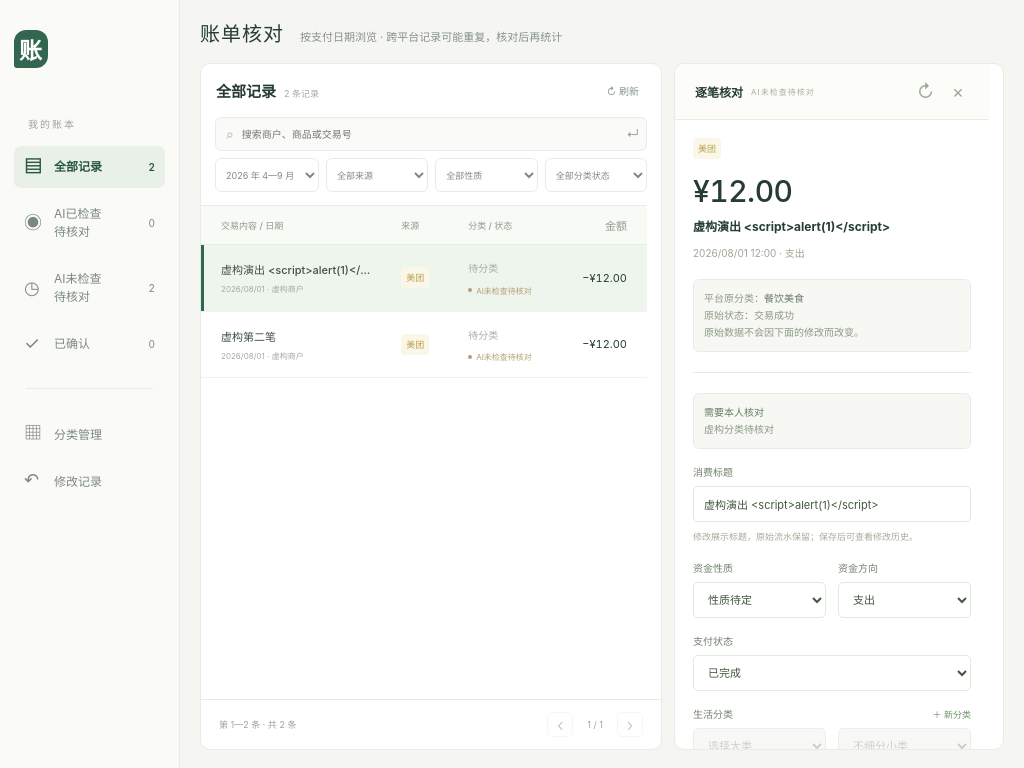
Test: confirms once and opens the next record without an unsaved warning
Select "消费" in the dropdown labelled "资金性质". click: (760, 600)
box: [693,582,826,618]
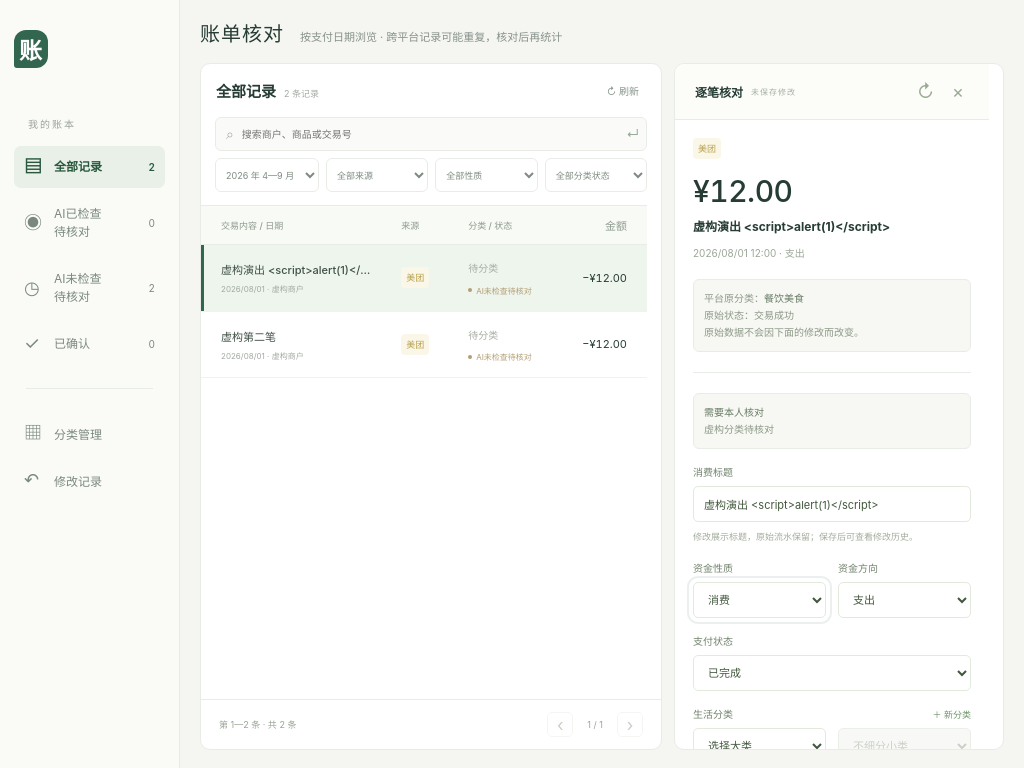
Select "文化休闲" in the dropdown named "消费大类". click: (760, 746)
box: [693,728,826,764]
(page scrolled)
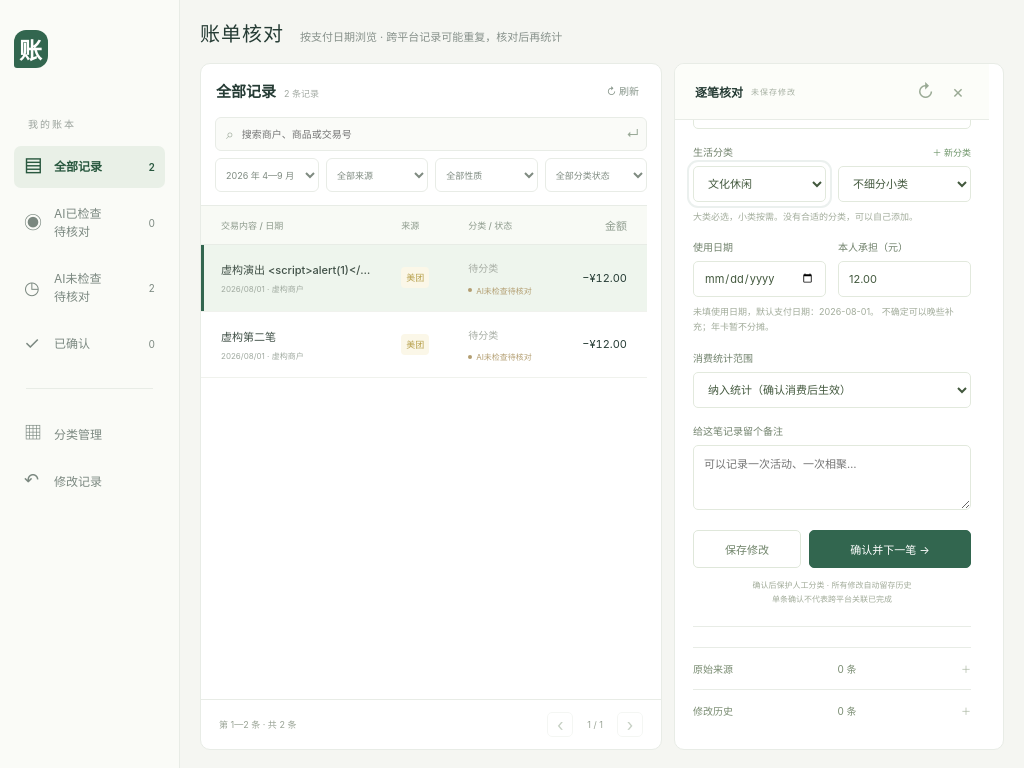
Click the button "确认并下一笔 →". click: (890, 549)
box: [809,530,971,568]
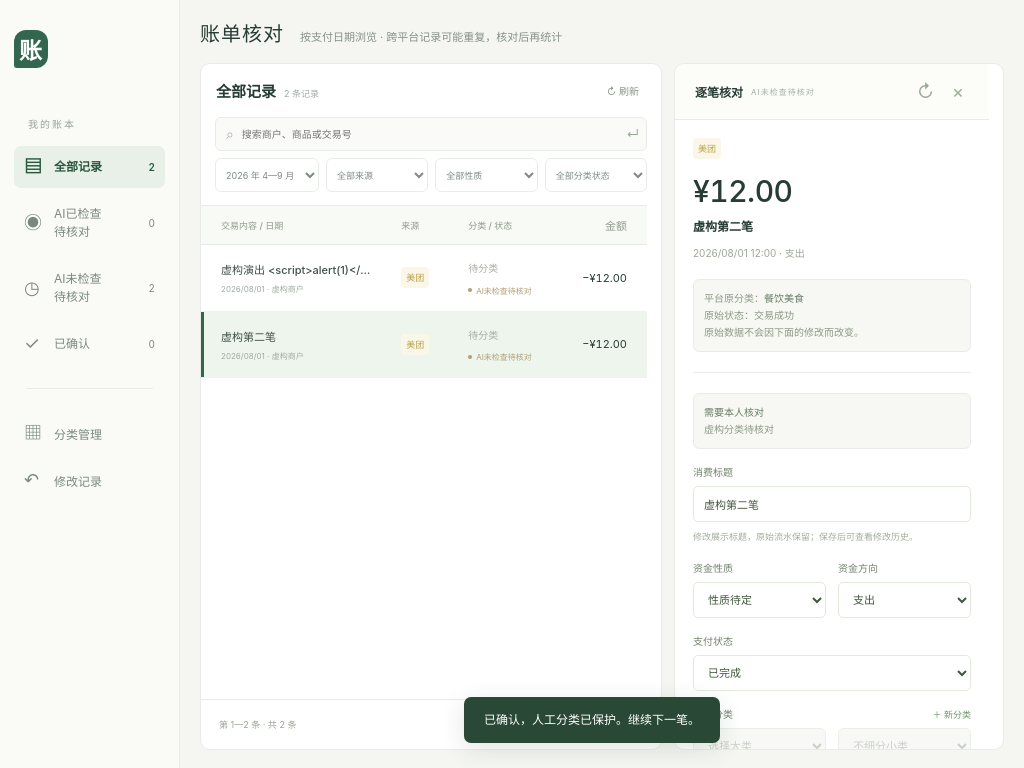
Result: the heading "虚构第二笔" is shown at [693,219,753,234]
Result: the message shows "已确认" at [484,712,700,727]
